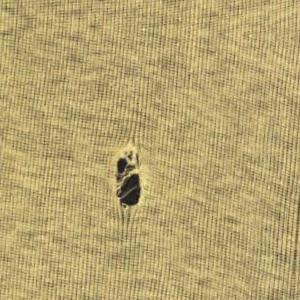hole: (112, 144, 146, 212)
